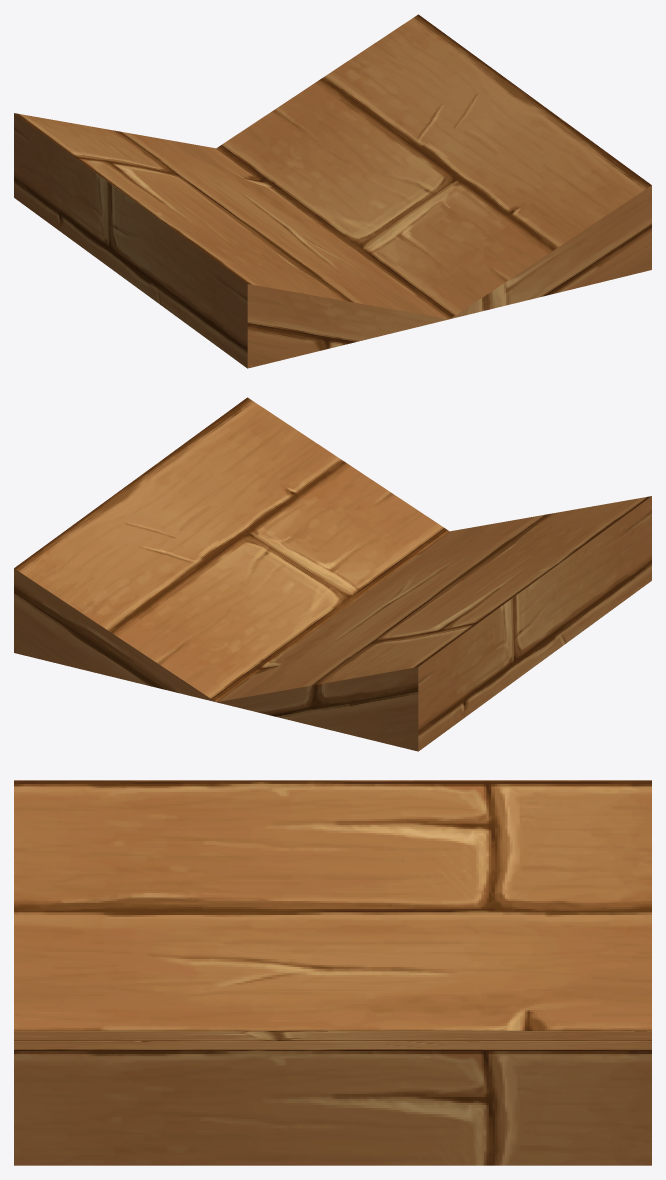
Rendered from GroundTile5x5Straight.fbx.
3 views of the same model, one above another, from view 1: azimuth 30°, elevation 25°; view 2: azimuth 150°, elevation 25°; view 3: azimuth 270°, elevation 25° (orthographic). The views are drawn at different scales.
Visible parts, largest first — view 1: Cube; view 2: Cube; view 3: Cube.
Boxes of the visible parts, <box> form: Cube: <box>14,14,651,368</box>; Cube: <box>14,397,651,751</box>; Cube: <box>14,780,651,1165</box>.
Bounding box in the file's own units: 1000 × 200 × 1000.
1 material, 1 textured.
